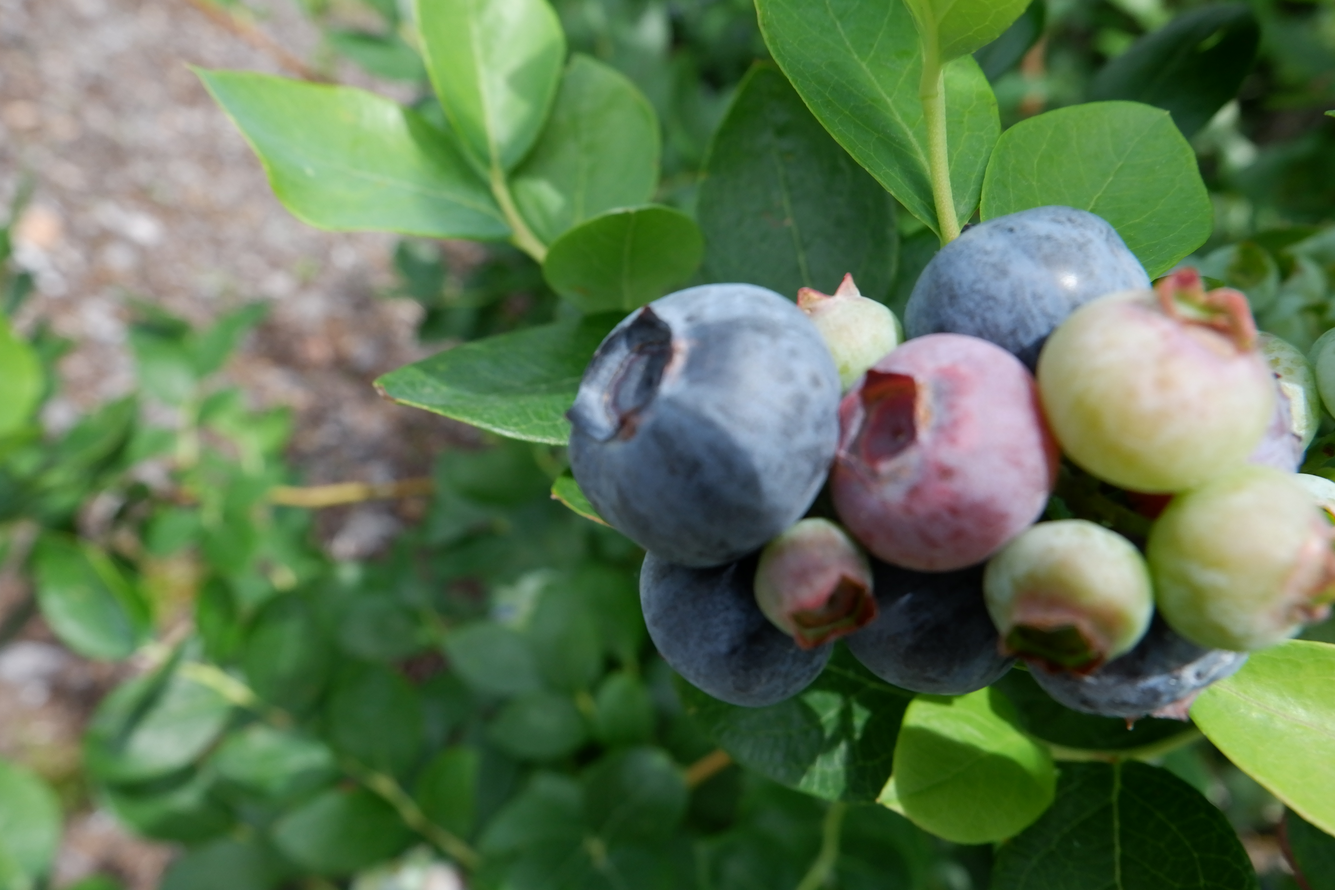Immature: (835, 334, 1059, 566), (1041, 269, 1263, 489), (1152, 472, 1326, 653), (990, 523, 1151, 673), (759, 521, 873, 645), (801, 279, 904, 387), (1262, 331, 1319, 467), (1297, 470, 1334, 529)
Mature: (568, 287, 838, 564), (906, 211, 1148, 366), (639, 554, 831, 702), (1039, 615, 1246, 722), (852, 560, 1008, 693)
